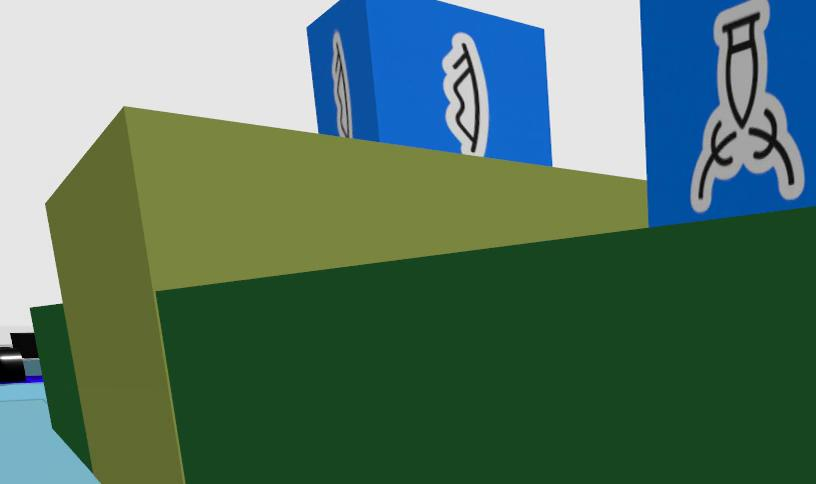KFS_REAL: (307, 0, 553, 166), (640, 0, 816, 224), (688, 0, 805, 213), (442, 32, 489, 155), (330, 31, 351, 137), (393, 78, 393, 79)
